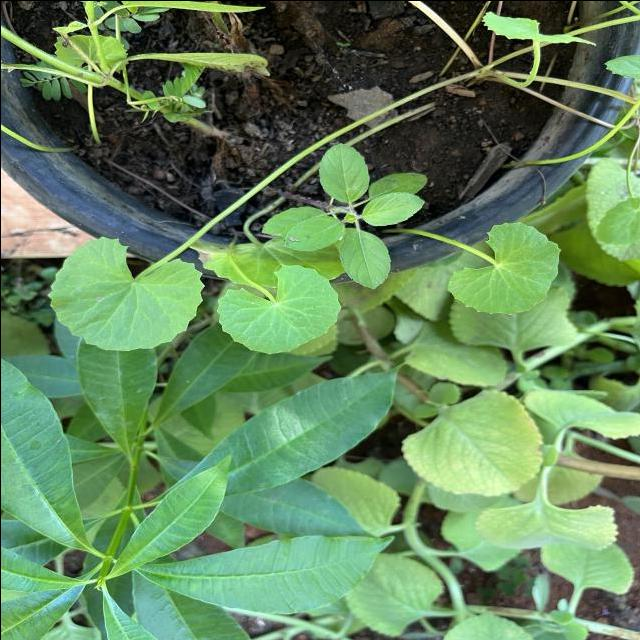Centella asiatica: (44, 233, 207, 352), (214, 262, 344, 356), (442, 218, 562, 316)
